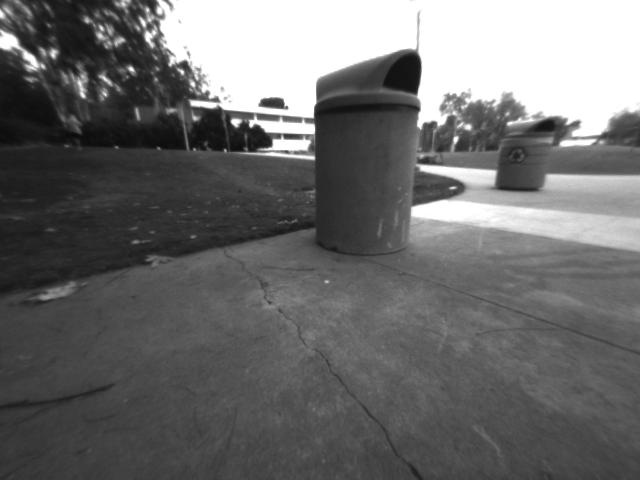trashcan: (291, 43, 443, 264)
